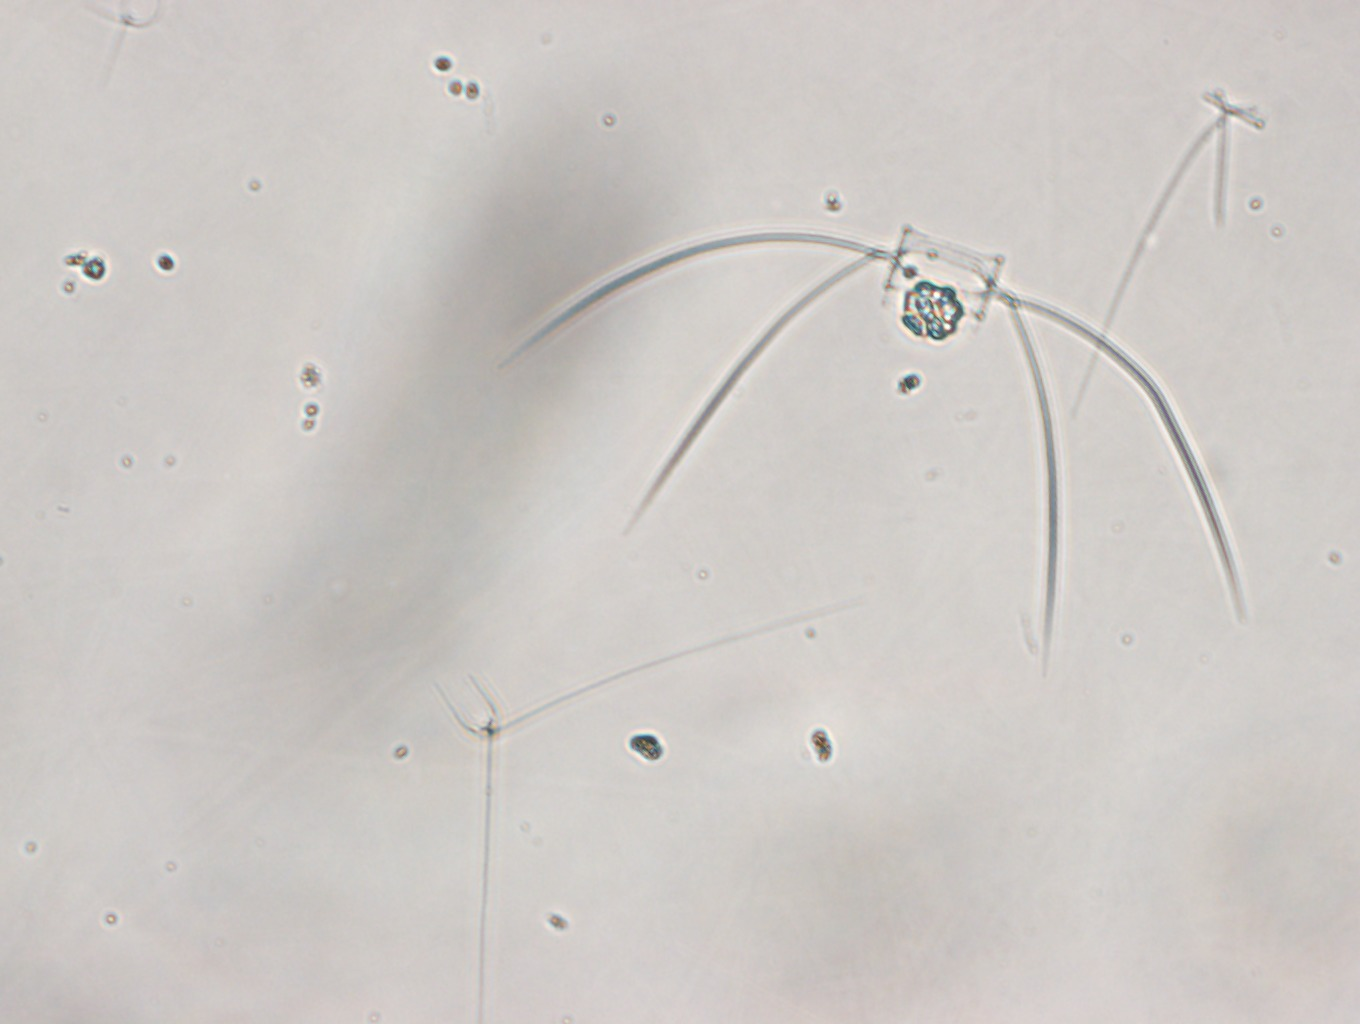chaetoceros: (500, 222, 1252, 671)
